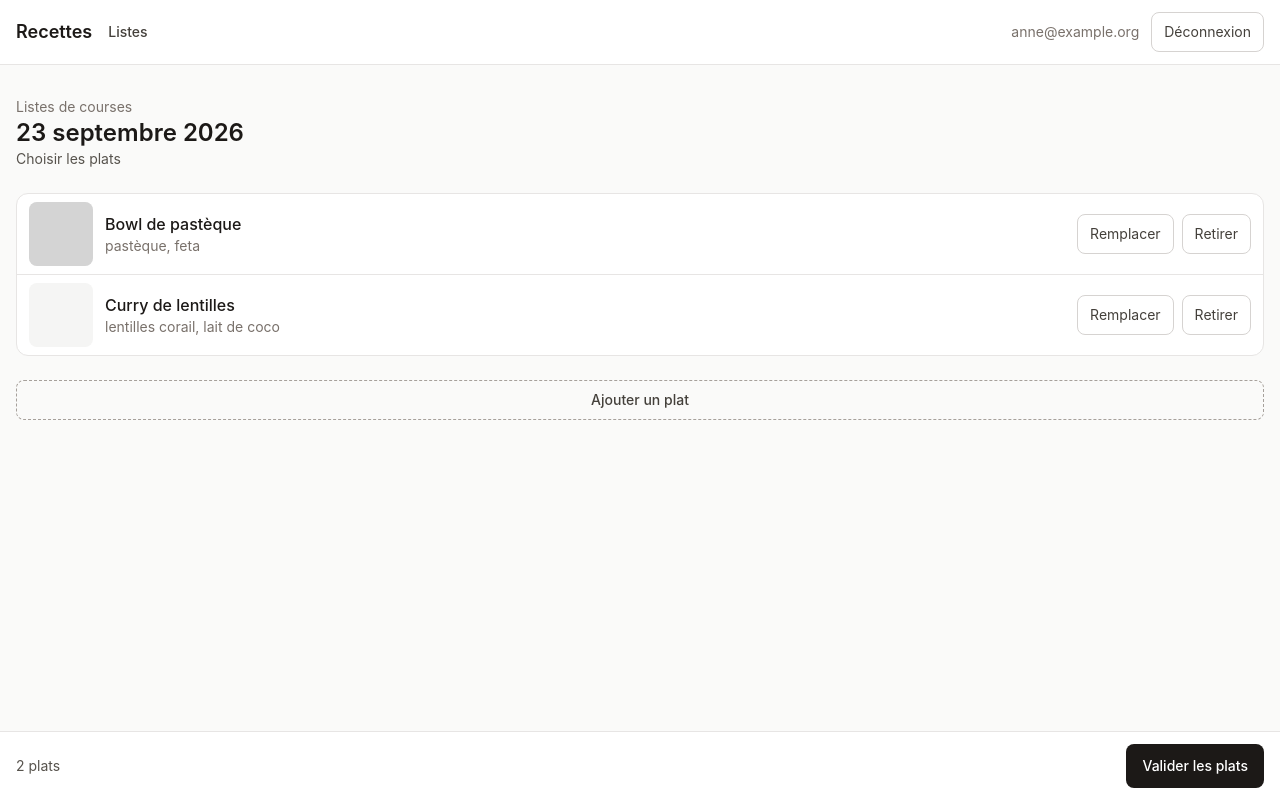
Scenario: préparation d'une liste › retire un plat
Expected: the text "Curry de lentilles" is shown, x1=105 y1=295 x2=235 y2=315
Click the button with aria-label "Retirer Curry de lentilles". click: point(1216, 315)
box: x1=1182 y1=295 x2=1251 y2=335
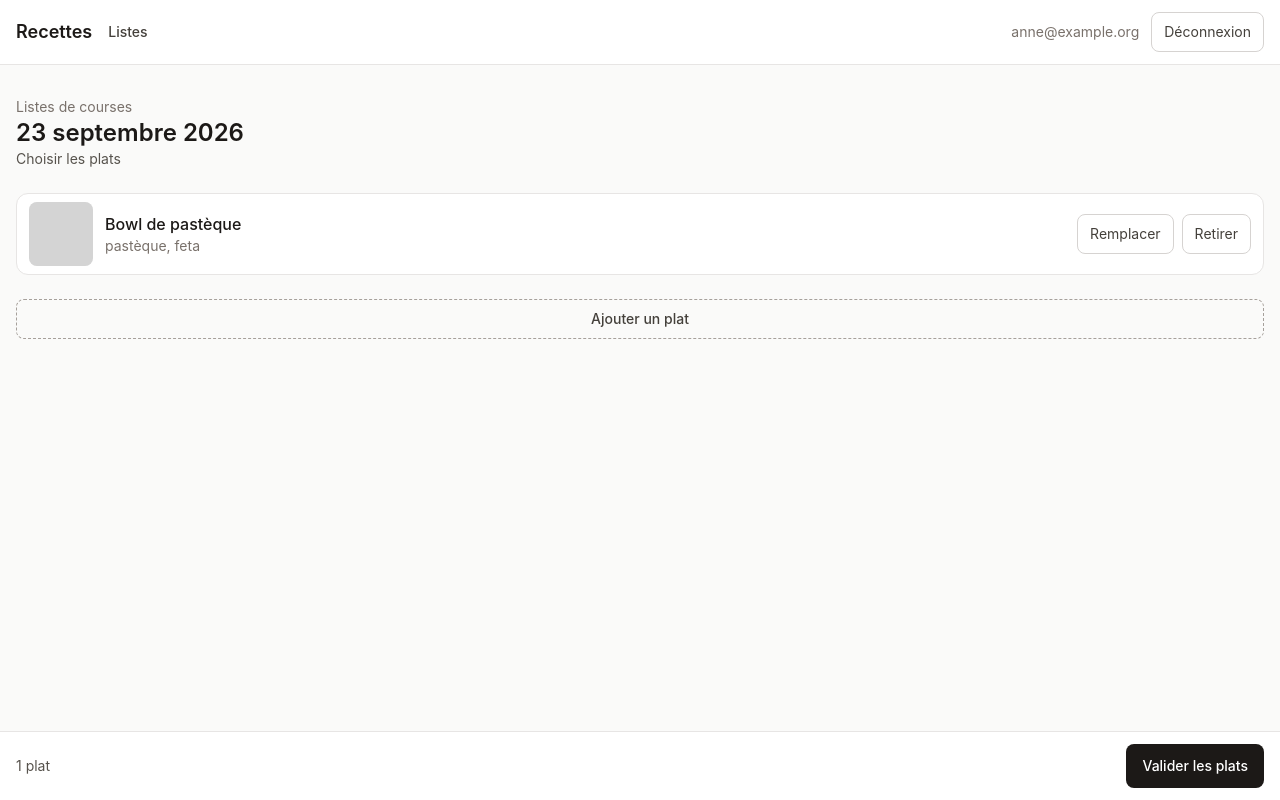
Now the link "Curry de lentilles" is gone
